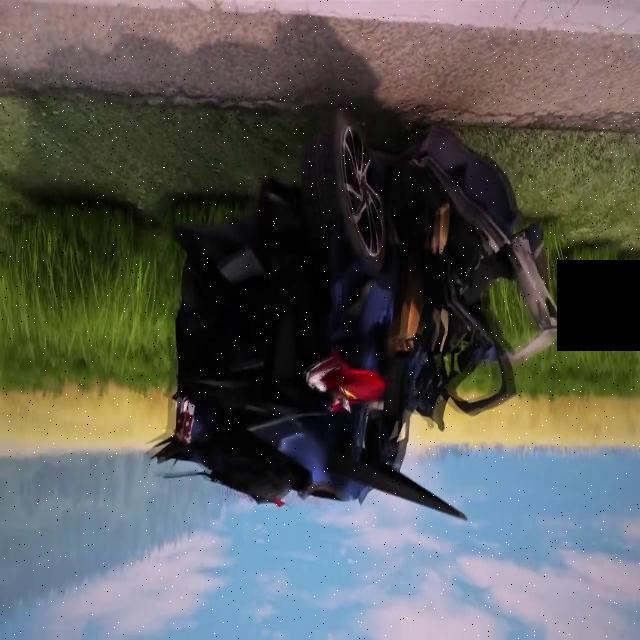person: (130, 78, 550, 502)
